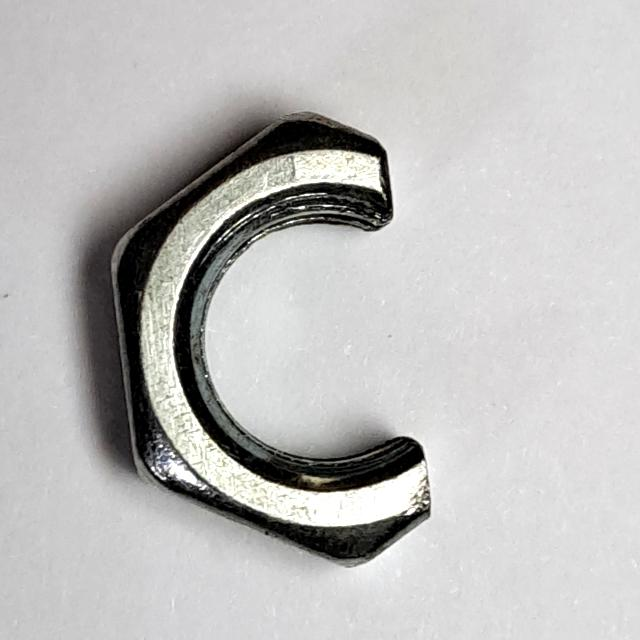Fracture: (98, 91, 450, 595)
